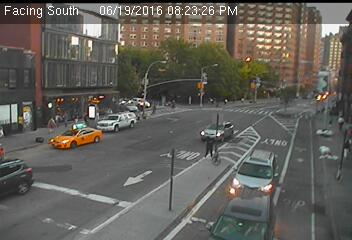neg: (44, 48, 63, 73), (70, 134, 88, 158), (7, 122, 24, 145), (120, 60, 137, 83), (315, 183, 331, 205), (44, 172, 59, 193), (281, 168, 296, 188), (130, 168, 145, 188), (275, 75, 290, 94), (194, 29, 207, 47), (281, 139, 294, 157), (165, 134, 178, 152), (315, 139, 328, 156), (300, 199, 312, 215), (169, 171, 181, 186), (311, 161, 323, 176), (76, 21, 88, 36), (109, 178, 120, 194), (251, 113, 262, 129), (93, 54, 104, 69), (236, 208, 247, 223), (116, 19, 127, 34), (110, 144, 121, 159), (121, 126, 132, 141), (245, 44, 256, 58), (190, 52, 201, 66), (86, 179, 97, 193), (143, 130, 153, 144), (144, 37, 154, 51), (7, 74, 17, 88), (216, 59, 226, 73), (232, 63, 242, 77), (312, 32, 322, 46), (174, 113, 184, 127), (274, 48, 284, 61), (297, 124, 307, 137), (286, 26, 295, 39), (252, 161, 261, 173), (185, 207, 194, 219), (340, 77, 349, 88), (119, 110, 127, 122), (278, 107, 286, 119), (227, 28, 235, 39), (170, 67, 178, 78), (22, 32, 30, 42), (42, 21, 49, 30), (314, 101, 321, 110), (314, 71, 321, 79), (257, 24, 263, 33)
pos: (200, 135, 217, 158), (44, 117, 56, 132), (336, 112, 347, 128), (54, 111, 64, 125), (209, 95, 217, 106), (222, 96, 229, 105), (240, 97, 246, 104)
